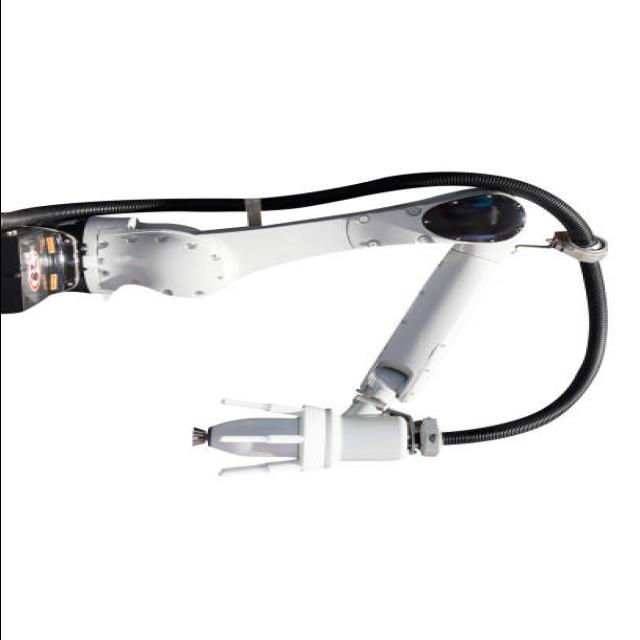Robotic-arm: (0, 187, 545, 477)
